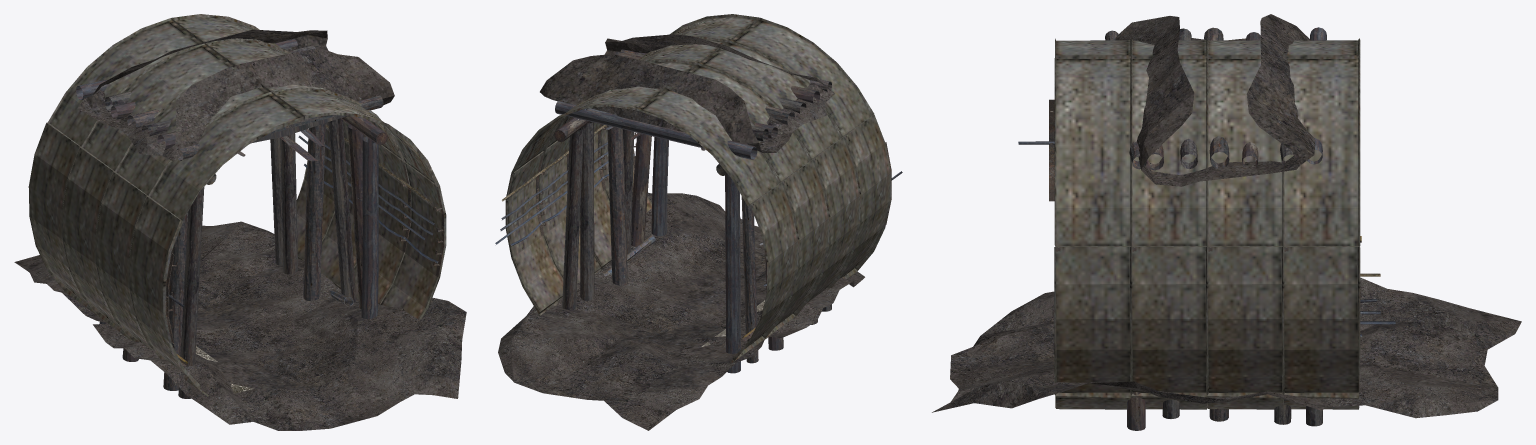
Rendered from tunnel_beton_derevo.obj.
3 renders of one model, left to right at view 1: azimuth 30°, elevation 25°; view 2: azimuth 150°, elevation 25°; view 3: azimuth 270°, elevation 25°, orthographic. The views are drawn at different scales.
Parts seen in each view (by area): view 1: grnd_l10, wood_brevna_01, concrete_tile_07, concrete_tile_010, concrete_tile_009, concrete_tile_008, metal_corr_dsc, metal_trub_tonnel; view 2: grnd_l10, wood_brevna_01, concrete_tile_010, concrete_tile_07, concrete_tile_008, concrete_tile_009, metal_trub_tonnel003, metal_trub_tonnel002; view 3: grnd_l10, concrete_tile_07, concrete_tile_010, concrete_tile_009, concrete_tile_008, wood_brevna_01, metal_corr_dsc.
Part boxes in pixels (box(x1,y1,x2,y2)): grnd_l10: box(14, 29, 466, 430); wood_brevna_01: box(76, 39, 387, 398); concrete_tile_07: box(129, 87, 446, 396); concrete_tile_010: box(28, 14, 334, 323); concrete_tile_009: box(62, 38, 365, 340); concrete_tile_008: box(95, 84, 411, 359); metal_corr_dsc: box(165, 189, 444, 343); metal_trub_tonnel: box(168, 117, 438, 366); grnd_l10: box(498, 34, 864, 430); wood_brevna_01: box(554, 49, 831, 373); concrete_tile_010: box(505, 84, 797, 362); concrete_tile_07: box(600, 14, 890, 287); concrete_tile_008: box(579, 37, 859, 315); concrete_tile_009: box(539, 59, 828, 343); metal_trub_tonnel003: box(495, 108, 766, 340); metal_trub_tonnel002: box(526, 155, 566, 223); grnd_l10: box(932, 14, 1521, 418); concrete_tile_07: box(1054, 38, 1132, 409); concrete_tile_010: box(1282, 38, 1360, 409); concrete_tile_009: box(1206, 40, 1284, 409); concrete_tile_008: box(1130, 38, 1208, 409); wood_brevna_01: box(1105, 27, 1326, 430); metal_corr_dsc: box(1049, 99, 1060, 251).
Bounding box in the file's own units: 9.31 × 8.86 × 14.16.
